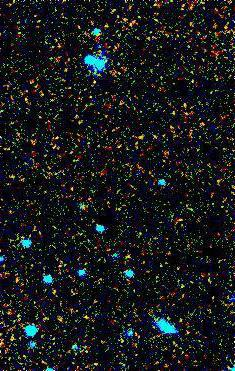star: (112, 236, 142, 266)
